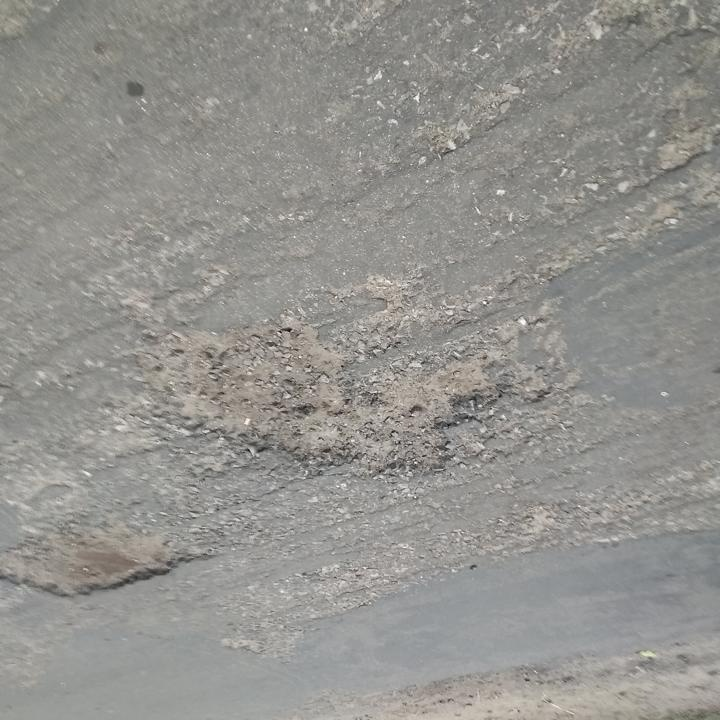pothole: (158, 320, 555, 487), (0, 519, 214, 602)
